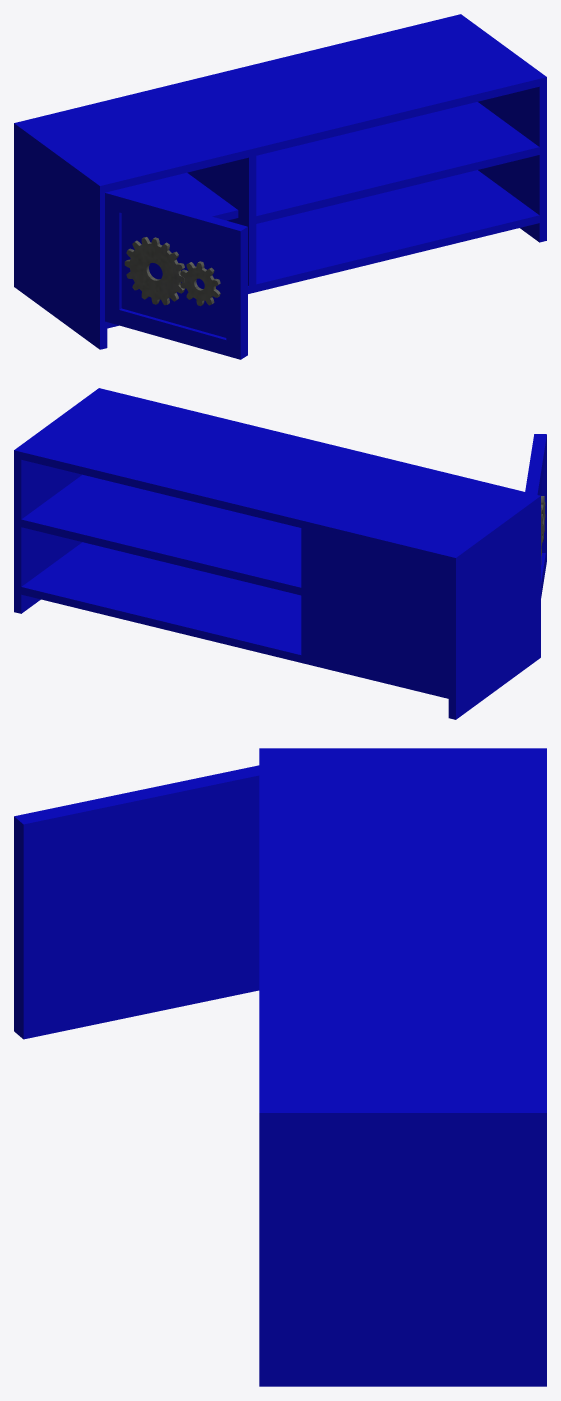
3 views of the same model, one above another, from view 1: azimuth 30°, elevation 25°; view 2: azimuth 150°, elevation 25°; view 3: azimuth 270°, elevation 25° (orthographic). The views are drawn at different scales.
Visible parts, largest first — view 1: 69281, 69282, 69304, 69279, 69284, 69199, 69280, 69283, 16 Tooth Gear, 69305, 10 Tooth Gear; view 2: 69281, 69282, 69476, 69304, 69279, 69280, 69305, 69283, 69284, 69199; view 3: 69281, 69280, 69199, 69284.
Part boxes in pixels (x1,y1,x2,y2): 69281: (14, 14, 546, 193); 69282: (107, 170, 539, 328); 69304: (256, 102, 539, 223); 69279: (14, 131, 107, 349); 69284: (105, 192, 242, 359); 69199: (109, 189, 247, 357); 69280: (478, 85, 546, 242); 69283: (187, 156, 256, 285); 16 Tooth Gear: (124, 237, 184, 305); 69305: (118, 172, 238, 220); 10 Tooth Gear: (180, 261, 220, 306); 69281: (14, 388, 540, 565); 69282: (21, 542, 448, 698); 69476: (308, 530, 448, 690); 69304: (21, 474, 301, 595); 69279: (448, 504, 540, 719); 69280: (14, 458, 82, 613); 69305: (308, 590, 448, 631); 69283: (301, 528, 308, 656); 69284: (533, 434, 546, 597); 69199: (525, 434, 542, 493); 69281: (259, 748, 546, 1125); 69280: (259, 1126, 546, 1386); 69199: (17, 769, 259, 1039); 69284: (14, 765, 259, 1033).
Size of the model in its own units: 1.2 by 0.42 by 0.7414.
1163 materials, 1102 textured.
